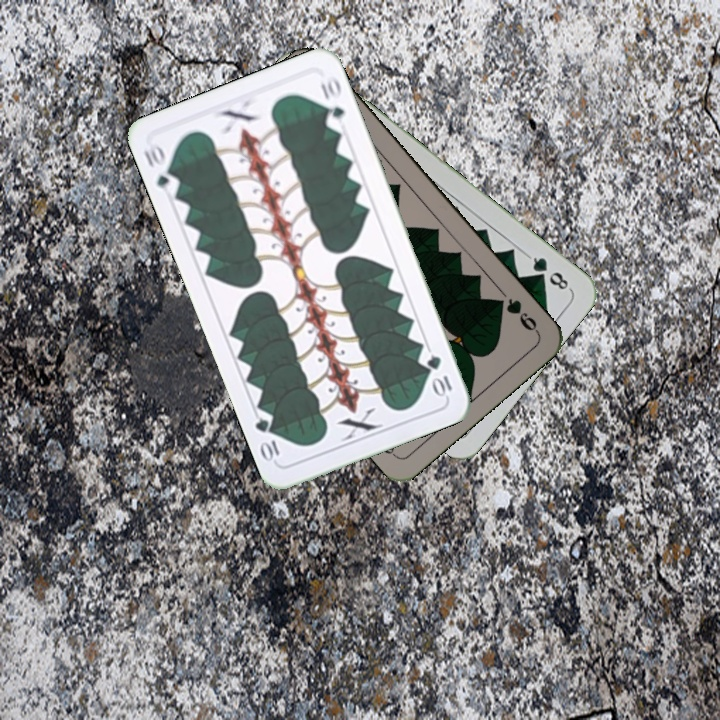G10: (139, 141, 182, 198), (423, 351, 455, 400)
G8: (523, 251, 574, 295)
G9: (490, 294, 542, 336)
